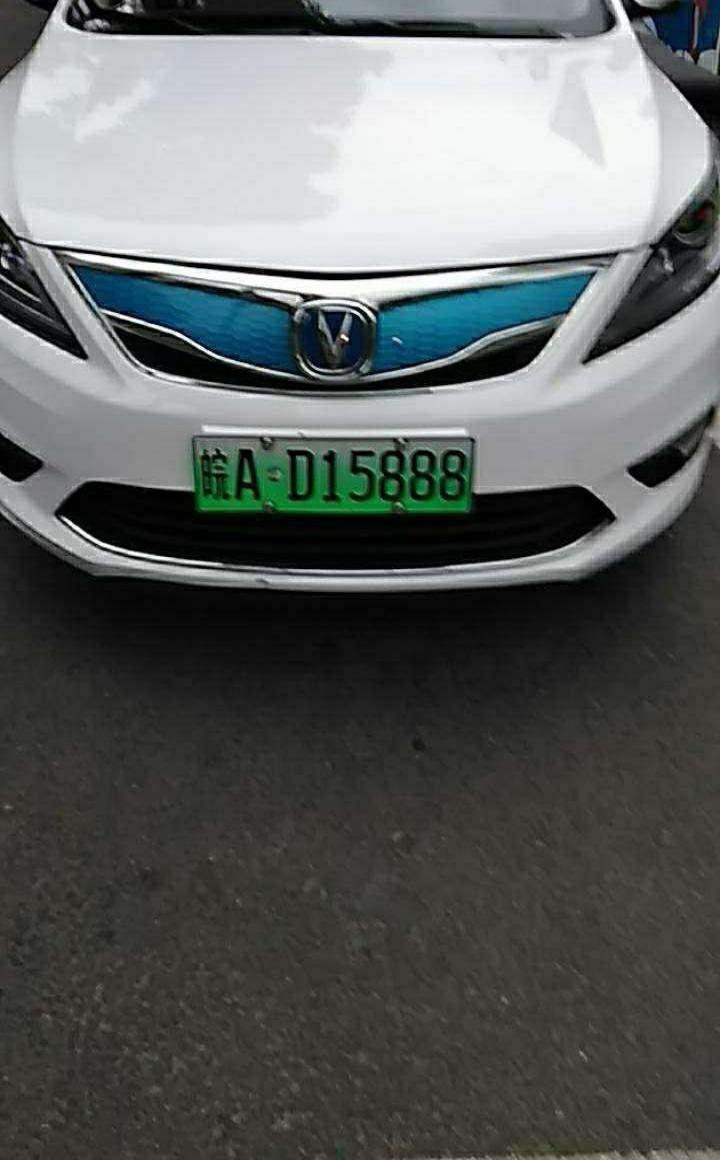car: (179, 430, 487, 517)
